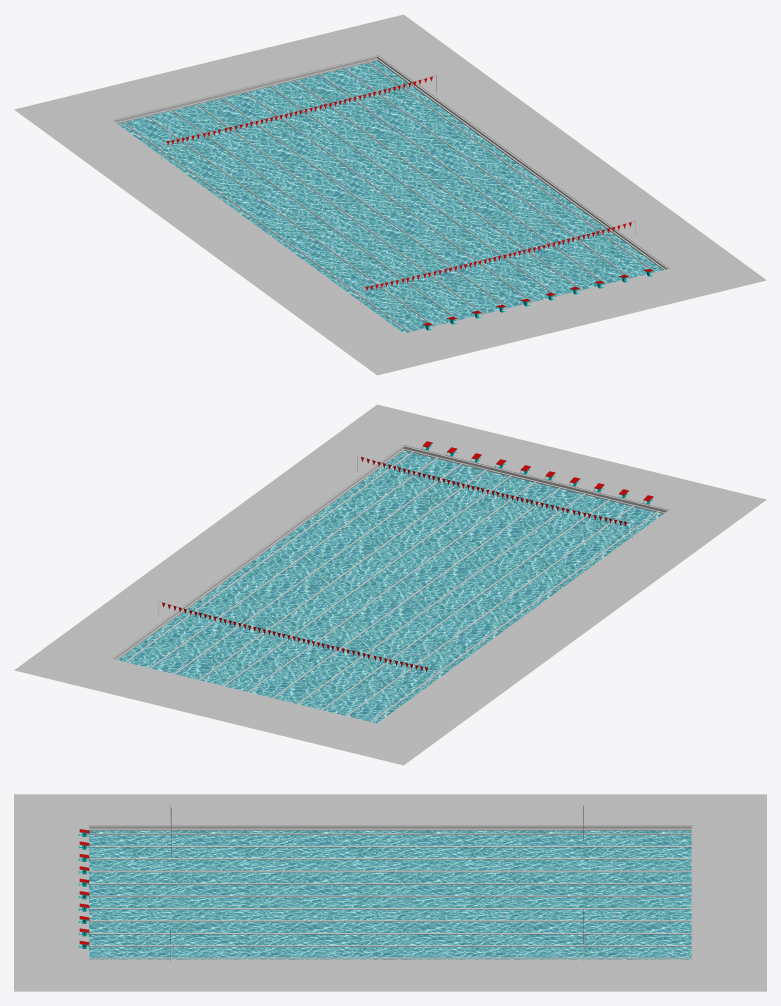
The picture shows the model from 3 angles, top to bottom: view 1: azimuth 30°, elevation 25°; view 2: azimuth 150°, elevation 25°; view 3: azimuth 270°, elevation 25°; orthographic projection. The views are drawn at different scales.
Parts seen in each view (by area): view 1: Water, OlympicSwimmingPool, LaneDividers, Flags01, Flags02; view 2: Water, OlympicSwimmingPool, LaneDividers, Flags02, Flags01; view 3: Water, OlympicSwimmingPool, LaneDividers.
Boxes of the visible parts, x1,y1,x2,y2 form: Water: (118,60,662,333); OlympicSwimmingPool: (14,14,766,375); LaneDividers: (122,61,655,332); Flags01: (359,220,635,305); Flags02: (160,74,436,159); Water: (118,450,662,723); OlympicSwimmingPool: (14,404,766,765); LaneDividers: (125,451,658,722); Flags02: (157,601,434,686); Flags01: (357,455,633,540); Water: (89,830,691,959); OlympicSwimmingPool: (14,794,766,991); LaneDividers: (89,833,691,959).
Size of the model in its own units: 3871 by 450 by 6250.
